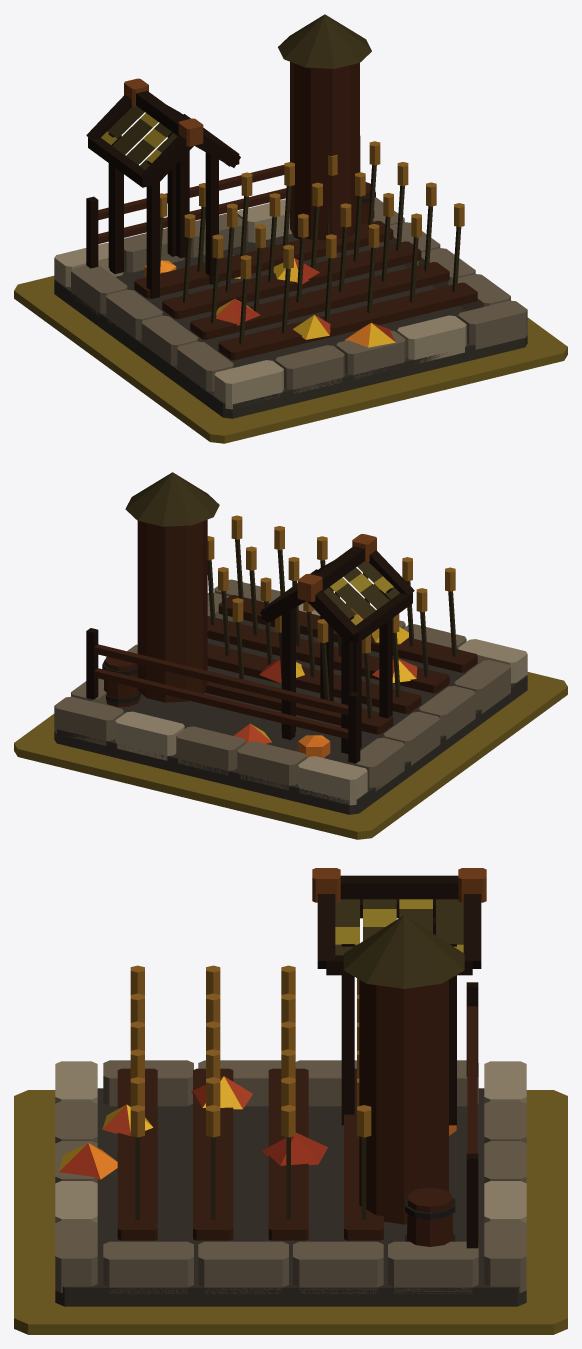
Rendered from farm_t6.glb.
The picture shows the model from 3 angles, top to bottom: view 1: azimuth 30°, elevation 25°; view 2: azimuth 150°, elevation 25°; view 3: azimuth 270°, elevation 25°; orthographic projection. The views are drawn at different scales.
Visible parts, largest first — view 1: MMR | farm | T06 Architecture.001, MMR | farm | Tier 06 Ground.001, MMR | farm | T06 Shelter Supports.001, MMR | farm | T06 Autumn Dressing.001; view 2: MMR | farm | T06 Architecture.001, MMR | farm | Tier 06 Ground.001, MMR | farm | T06 Shelter Supports.001, MMR | farm | T06 Autumn Dressing.001; view 3: MMR | farm | T06 Architecture.001, MMR | farm | Tier 06 Ground.001, MMR | farm | T06 Autumn Dressing.001, MMR | farm | T06 Shelter Supports.001.
Boxes of the visible parts, x1,y1,x2,y2 form: MMR | farm | T06 Architecture.001: [54, 14, 527, 418]; MMR | farm | Tier 06 Ground.001: [14, 276, 567, 443]; MMR | farm | T06 Shelter Supports.001: [108, 132, 218, 298]; MMR | farm | T06 Autumn Dressing.001: [144, 255, 395, 347]; MMR | farm | T06 Architecture.001: [54, 472, 527, 814]; MMR | farm | Tier 06 Ground.001: [14, 672, 567, 839]; MMR | farm | T06 Shelter Supports.001: [282, 587, 392, 753]; MMR | farm | T06 Autumn Dressing.001: [234, 613, 417, 758]; MMR | farm | T06 Architecture.001: [55, 868, 526, 1306]; MMR | farm | Tier 06 Ground.001: [14, 1090, 567, 1334]; MMR | farm | T06 Autumn Dressing.001: [59, 1076, 456, 1179]; MMR | farm | T06 Shelter Supports.001: [341, 944, 456, 1125].
Size of the model in its own units: 2.35 by 1.65 by 2.35.
Materials: 1 (1 with a texture image).
